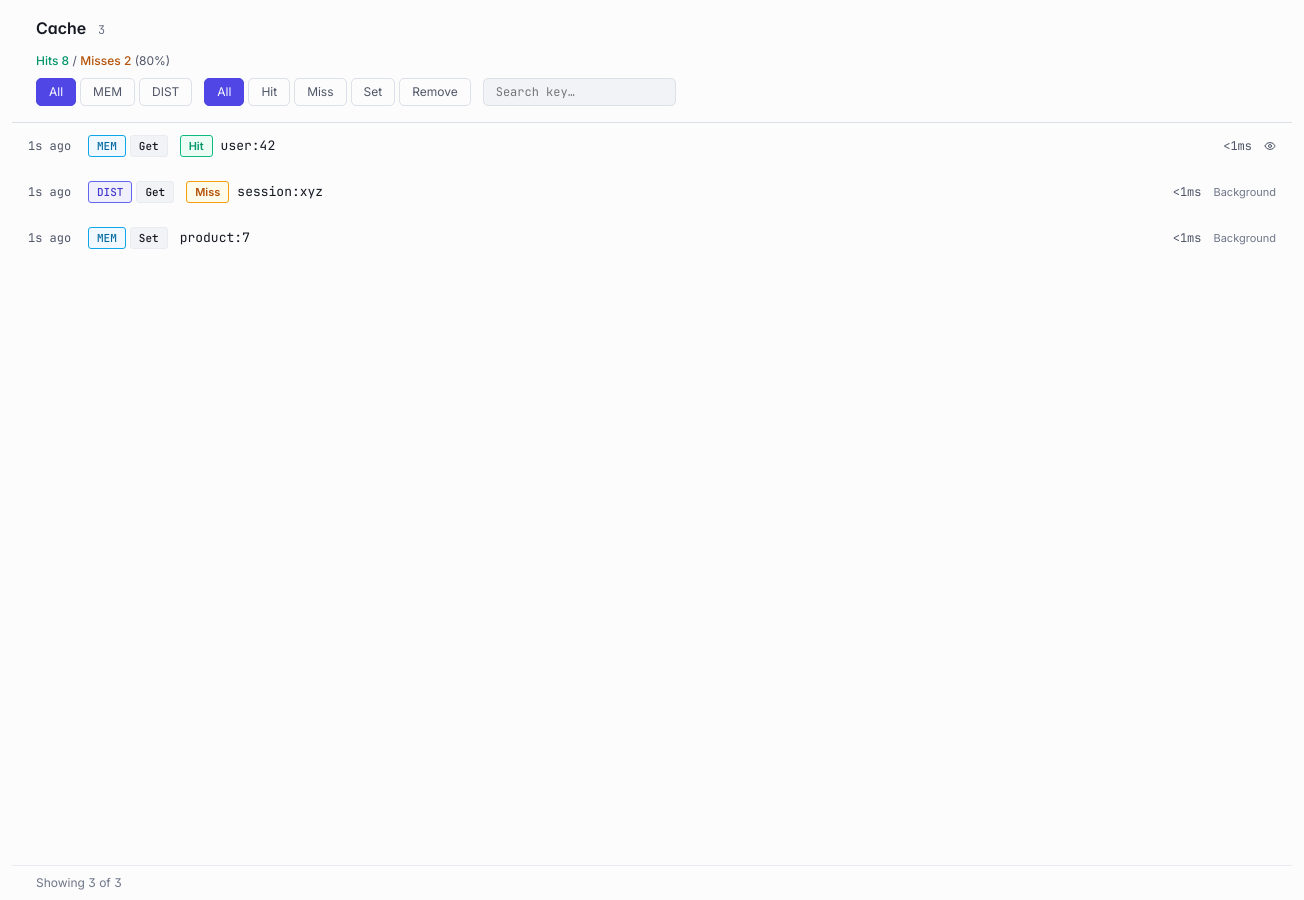
it: CachePage › filters to Hit entries when Hit chip is clicked
Expected: the text "session:xyz" is shown, [237,182,323,202]
Step 1. Click the button "Hit" → (269, 92), box [248,78,290,106]
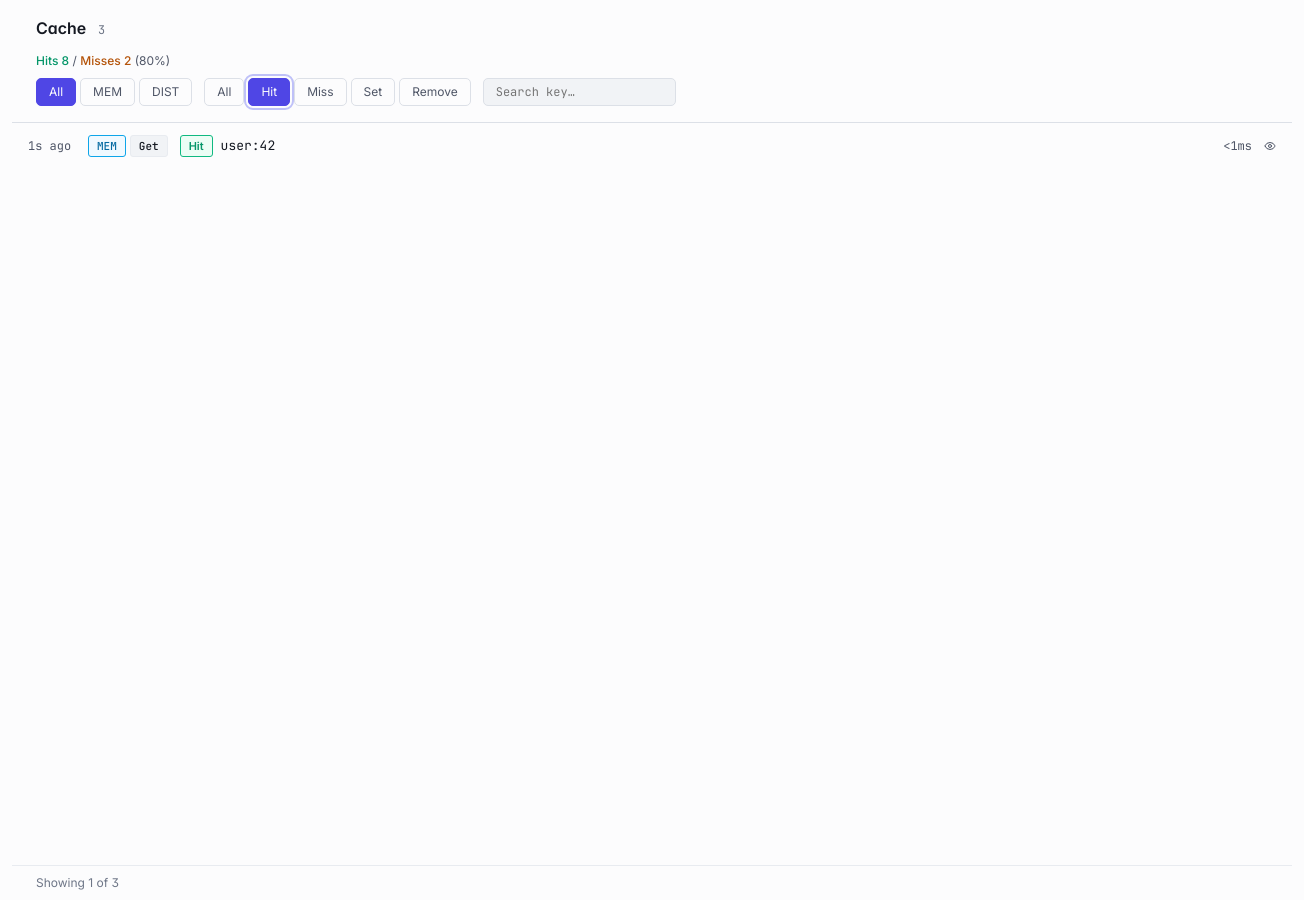
Expected: the text "user:42" is shown, [221,136,275,156]
Expected: the button "session:xyz" is gone
Expected: the button "product:7" is gone
